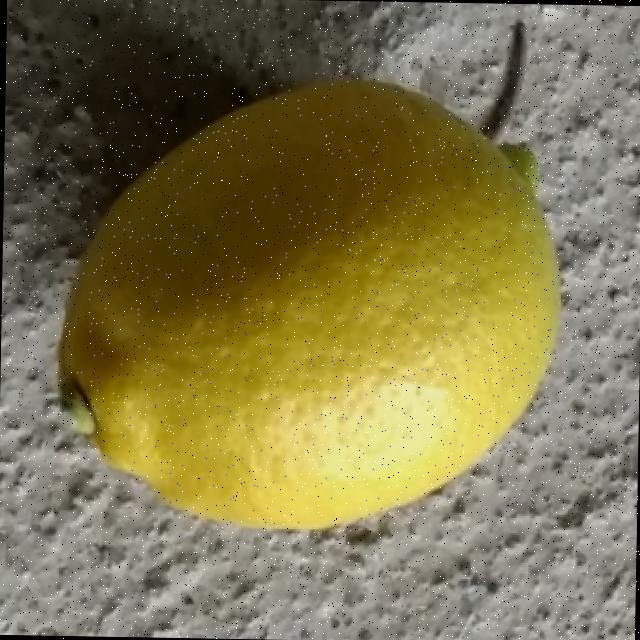Ripe: (46, 65, 568, 538)
